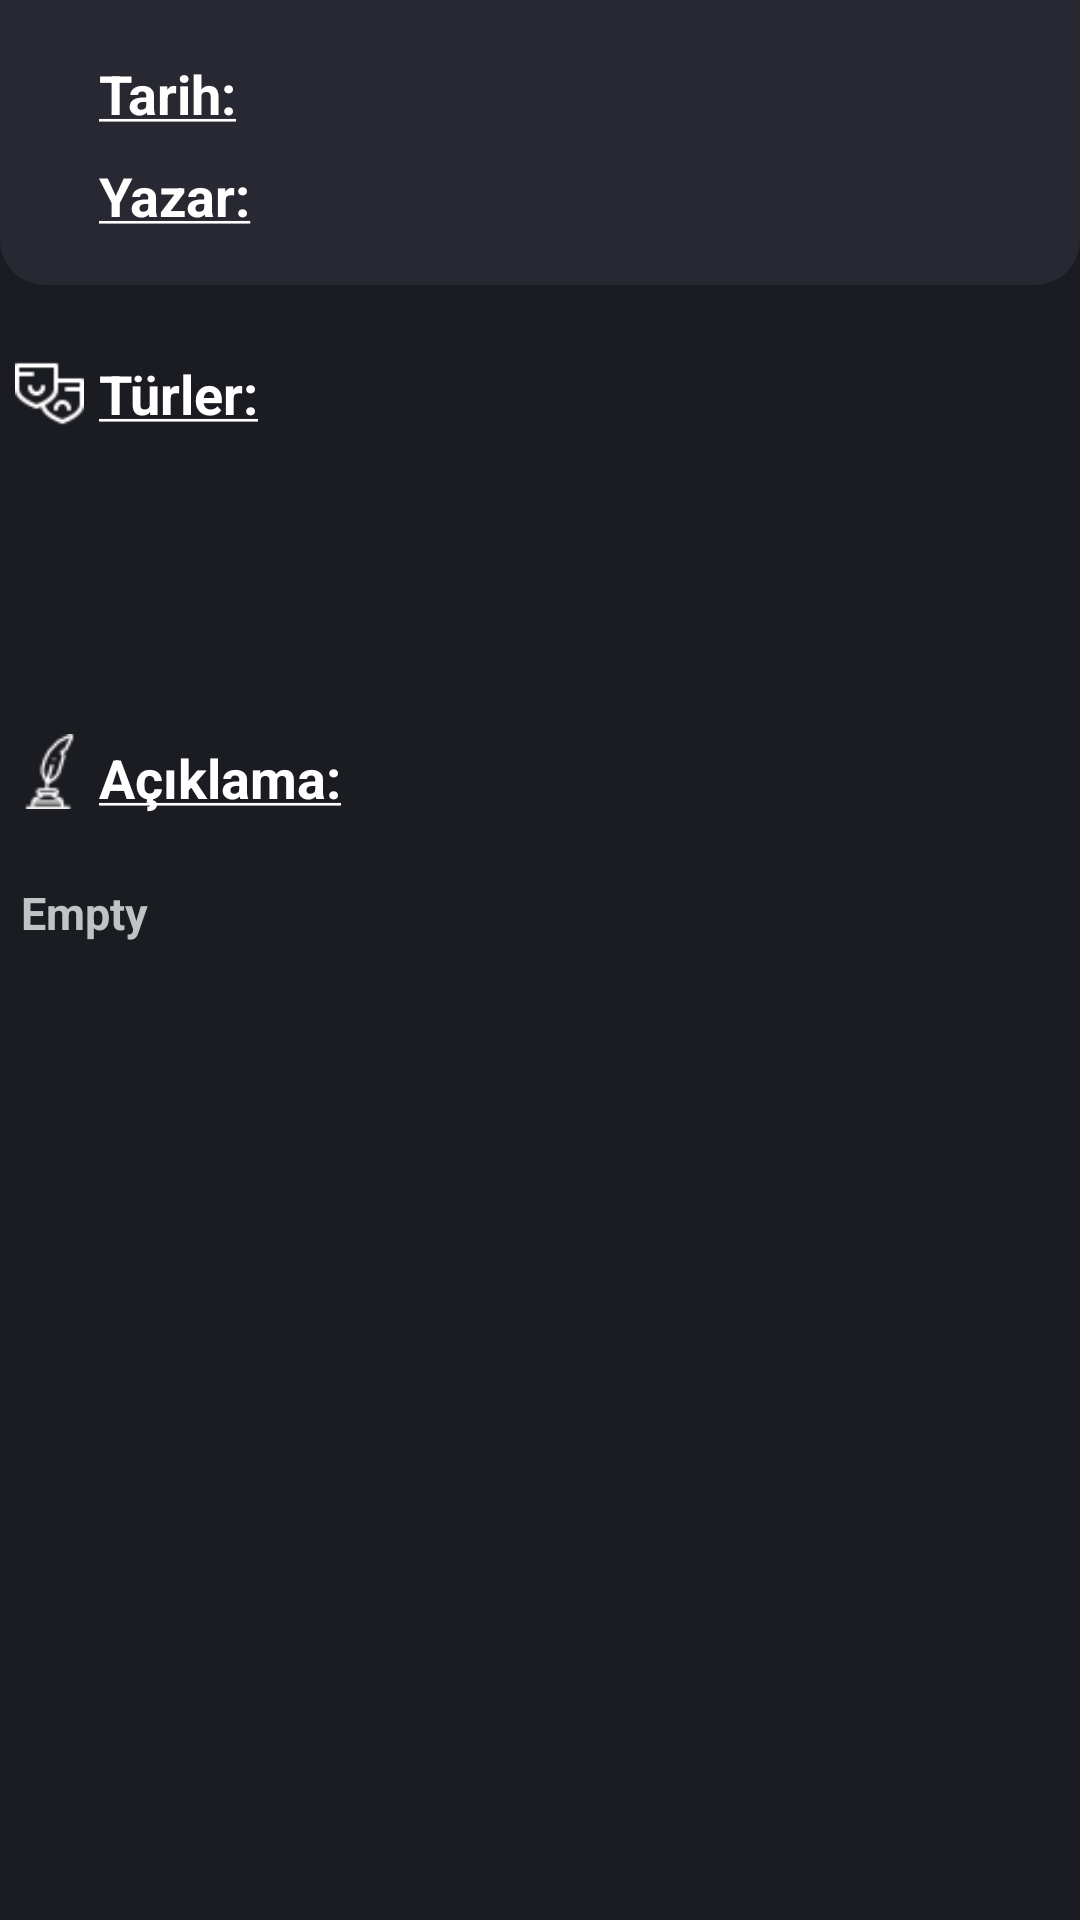

Screen size 1080 × 1920. Icon name, then its center in pixels as [x,y]:
description: [49,771]
genres: [49,393]
